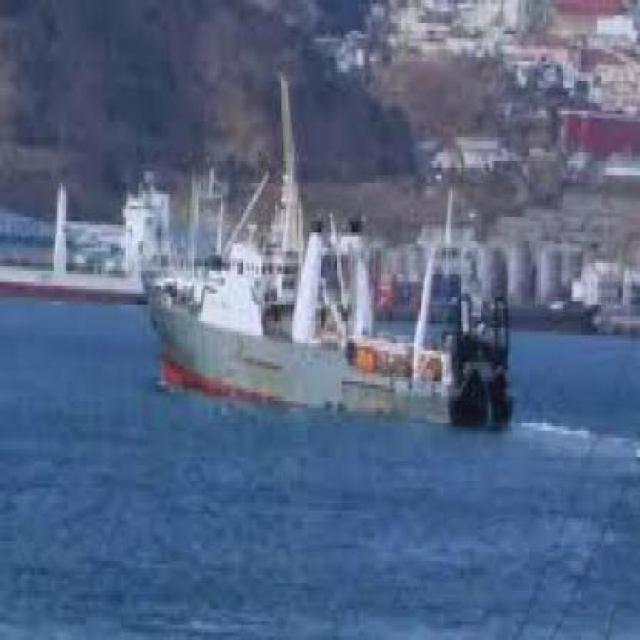fish-b: (131, 138, 522, 458)
